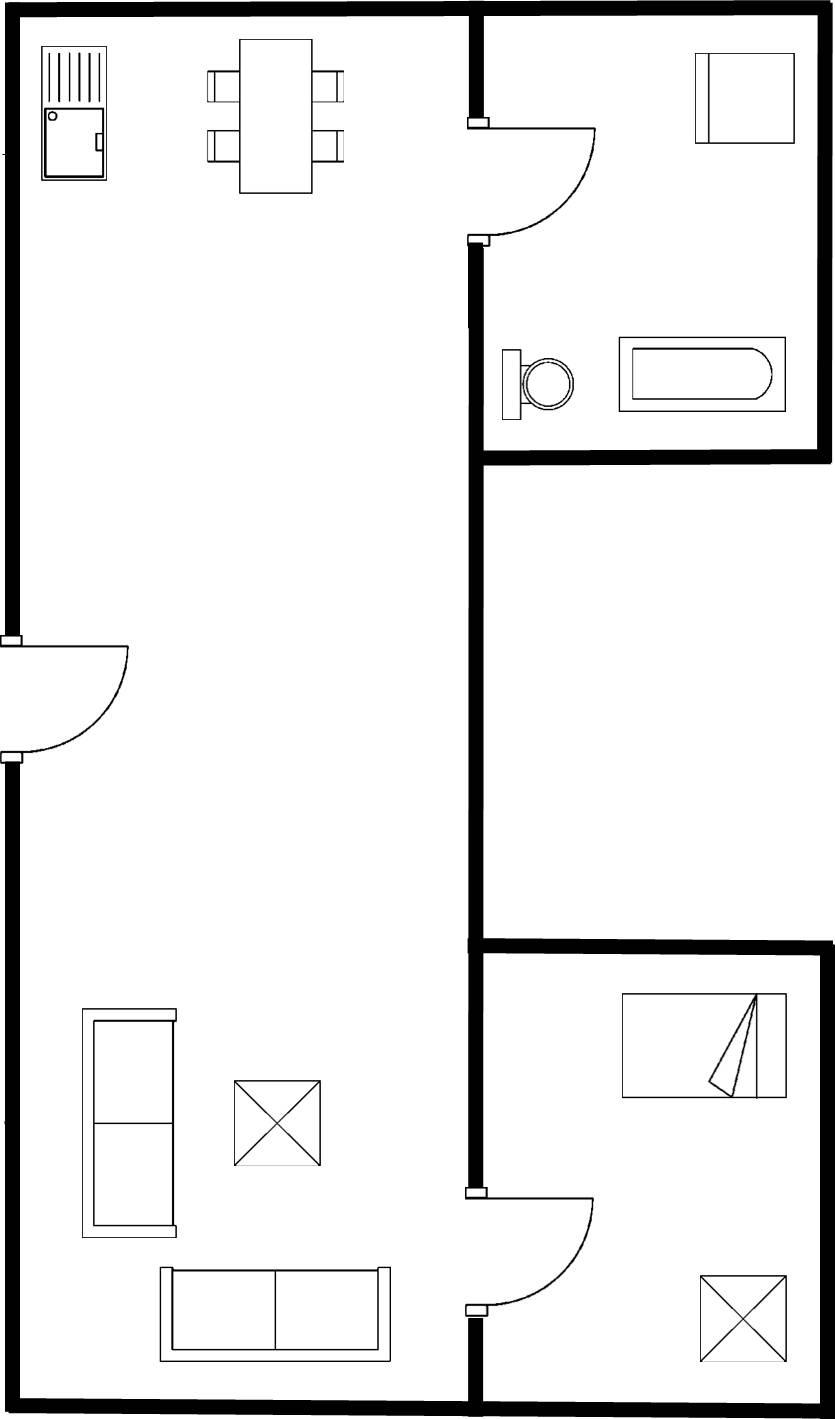bed: (614, 984, 799, 1110)
dining_table: (199, 31, 353, 201)
sink: (32, 38, 116, 187)
sofa: (152, 1259, 400, 1373), (74, 998, 184, 1245)
toilet: (495, 341, 578, 434)
tub: (607, 329, 795, 417)
